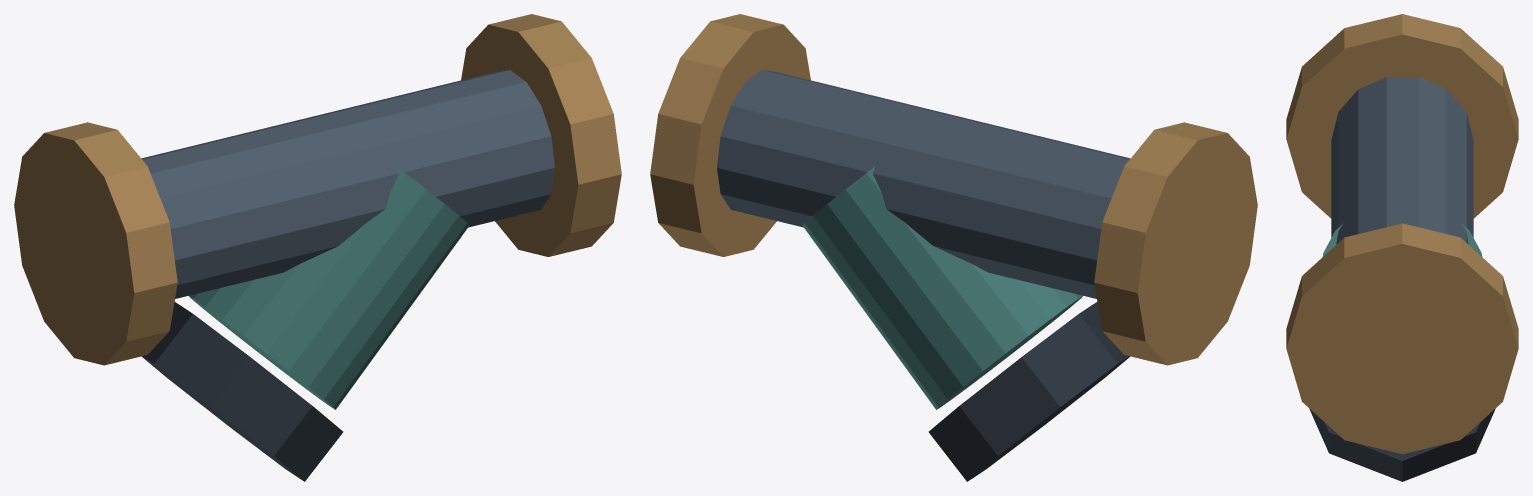
File: E-10_y_strainer.glb
3 renders of one model, left to right at view 1: azimuth 30°, elevation 25°; view 2: azimuth 150°, elevation 25°; view 3: azimuth 270°, elevation 25°, orthographic. The views are drawn at different scales.
Parts seen in each view (by area): view 1: E-10_y_strainer; view 2: E-10_y_strainer; view 3: E-10_y_strainer.
Boxes of the visible parts, x1=… form: E-10_y_strainer: x1=14, y1=14, x2=621, y2=481; E-10_y_strainer: x1=650, y1=14, x2=1257, y2=481; E-10_y_strainer: x1=1286, y1=14, x2=1518, y2=481.
Bounding box in the file's own units: 0.314 × 0.2344 × 0.134.
